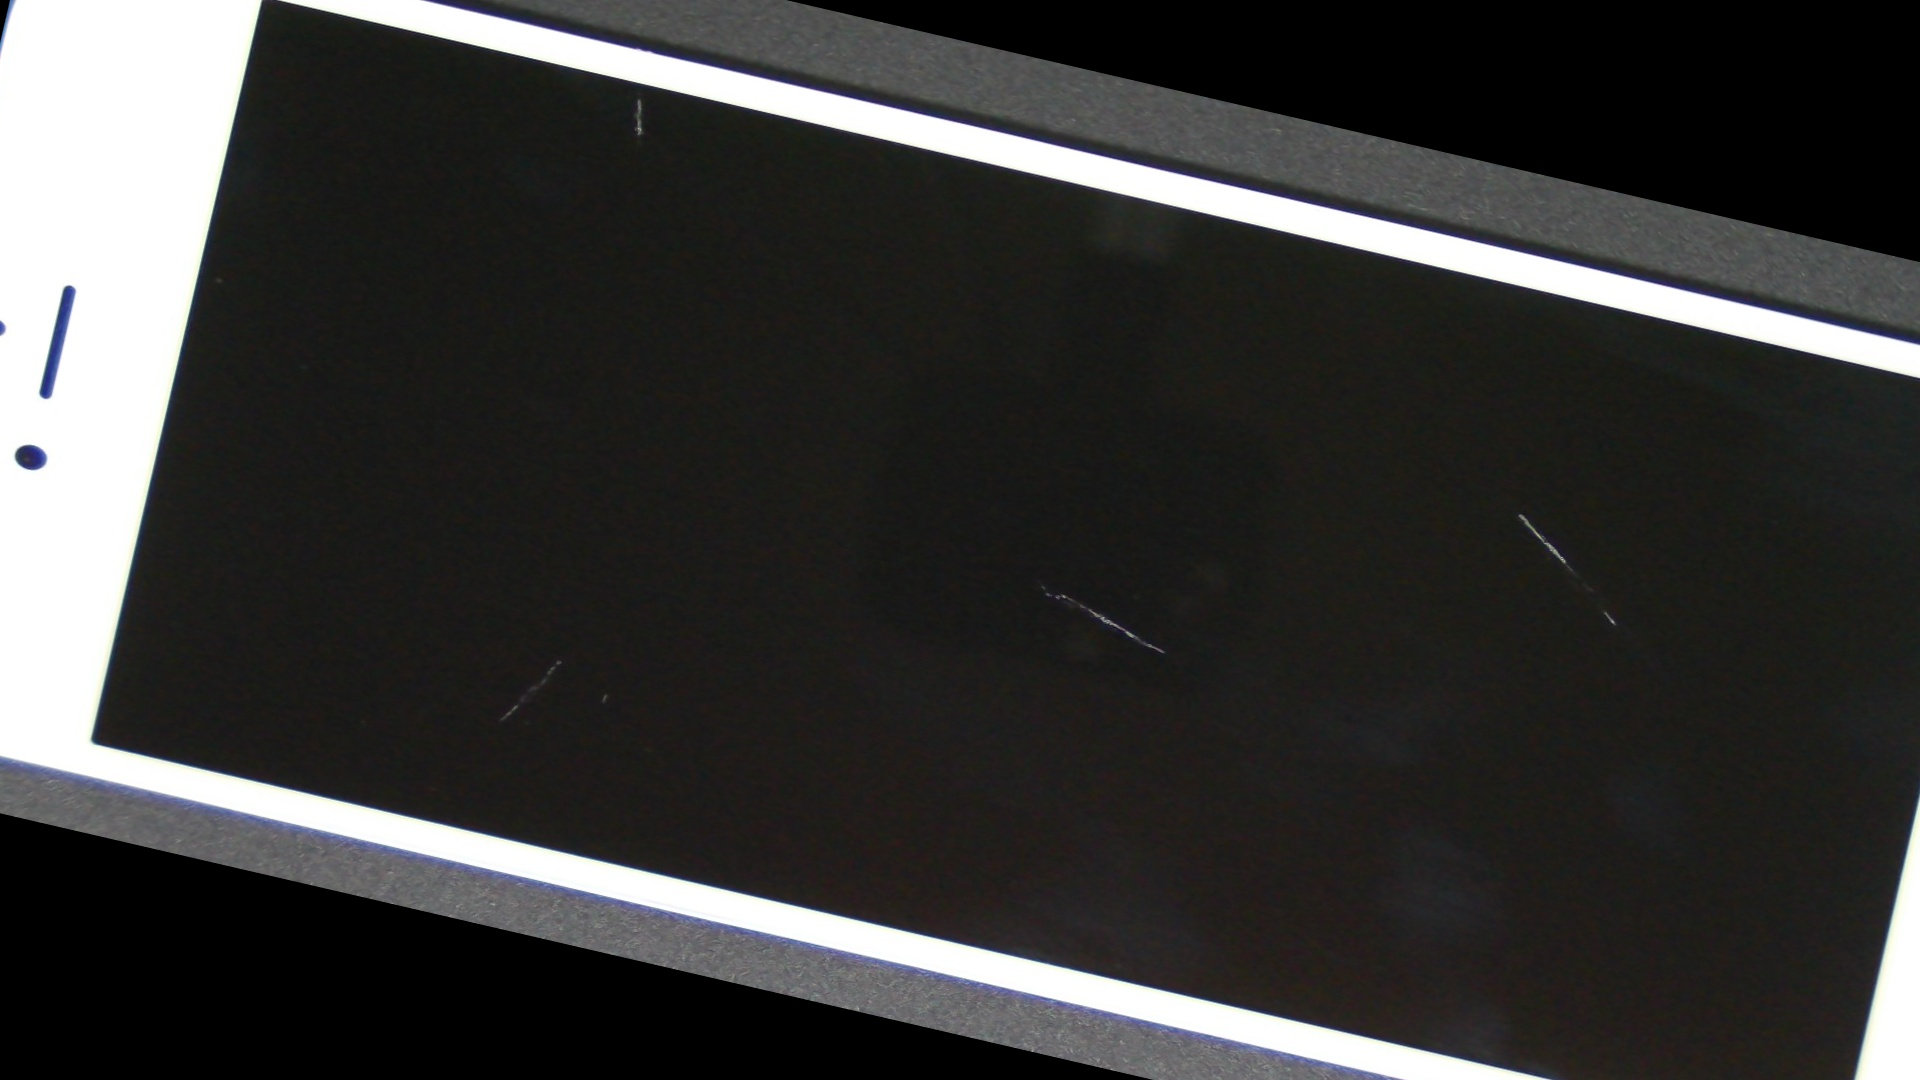oil: (433, 206, 1654, 961), (736, 220, 1920, 944), (709, 171, 1920, 832), (165, 244, 972, 1005), (316, 0, 963, 235)
